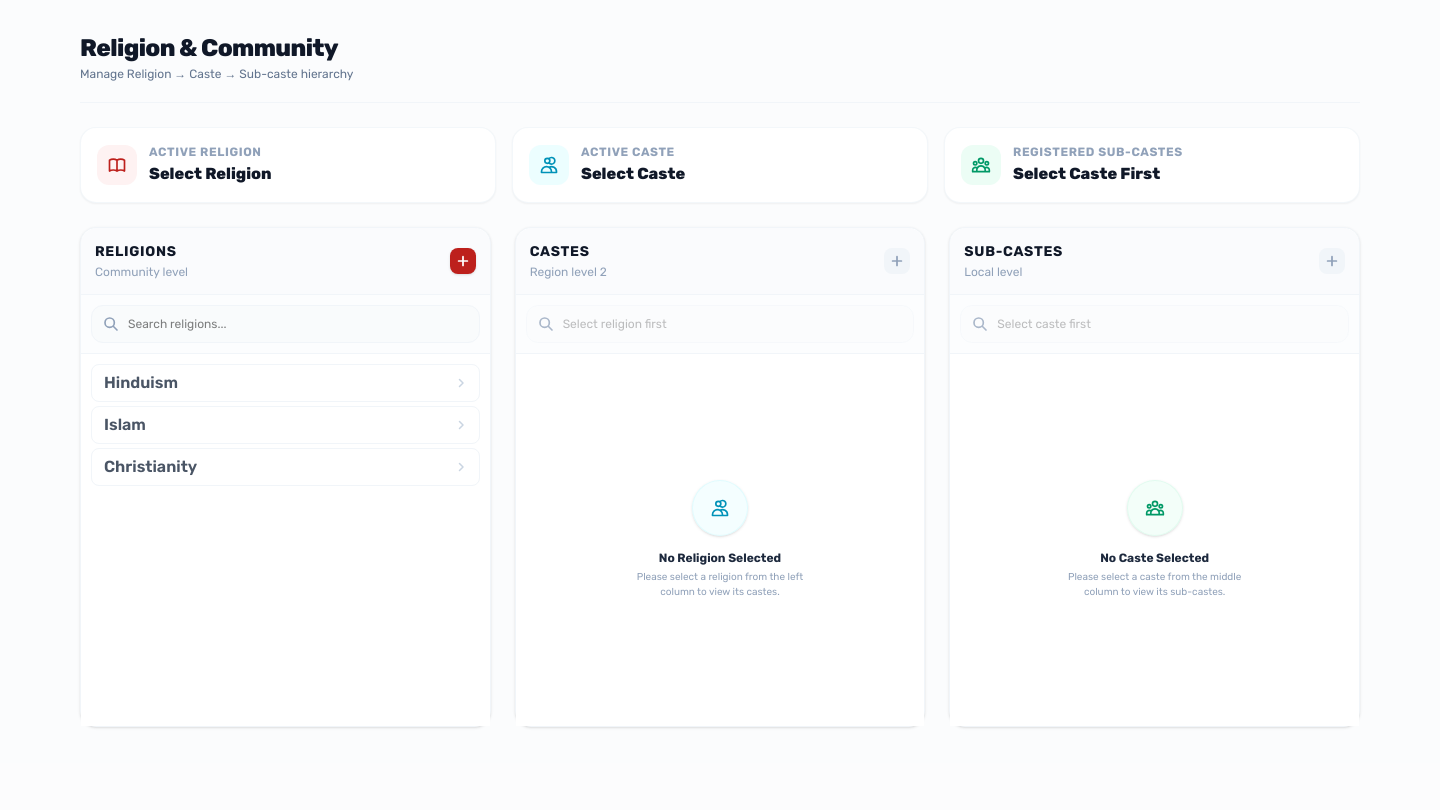
Test case: ReligionManagement Component › Modals › should close modal when Cancel is clicked
Click the button titled "Add New Religion". click: click(463, 261)
box: x1=450 y1=248 x2=476 y2=274
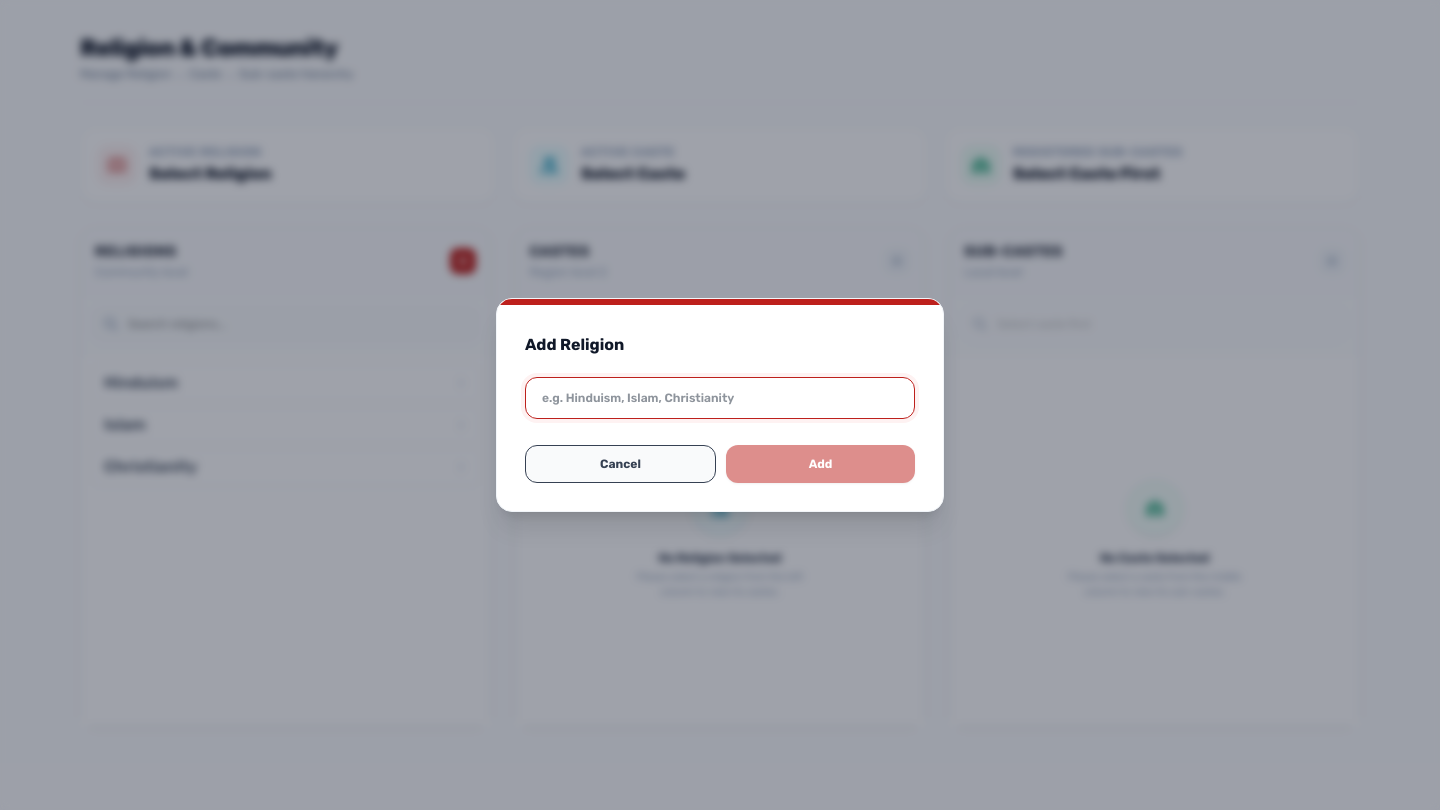
Expected: the heading "Add Religion" is shown, x1=525 y1=335 x2=624 y2=354
Click the button "Cancel". click: click(620, 464)
box: x1=525 y1=445 x2=716 y2=483
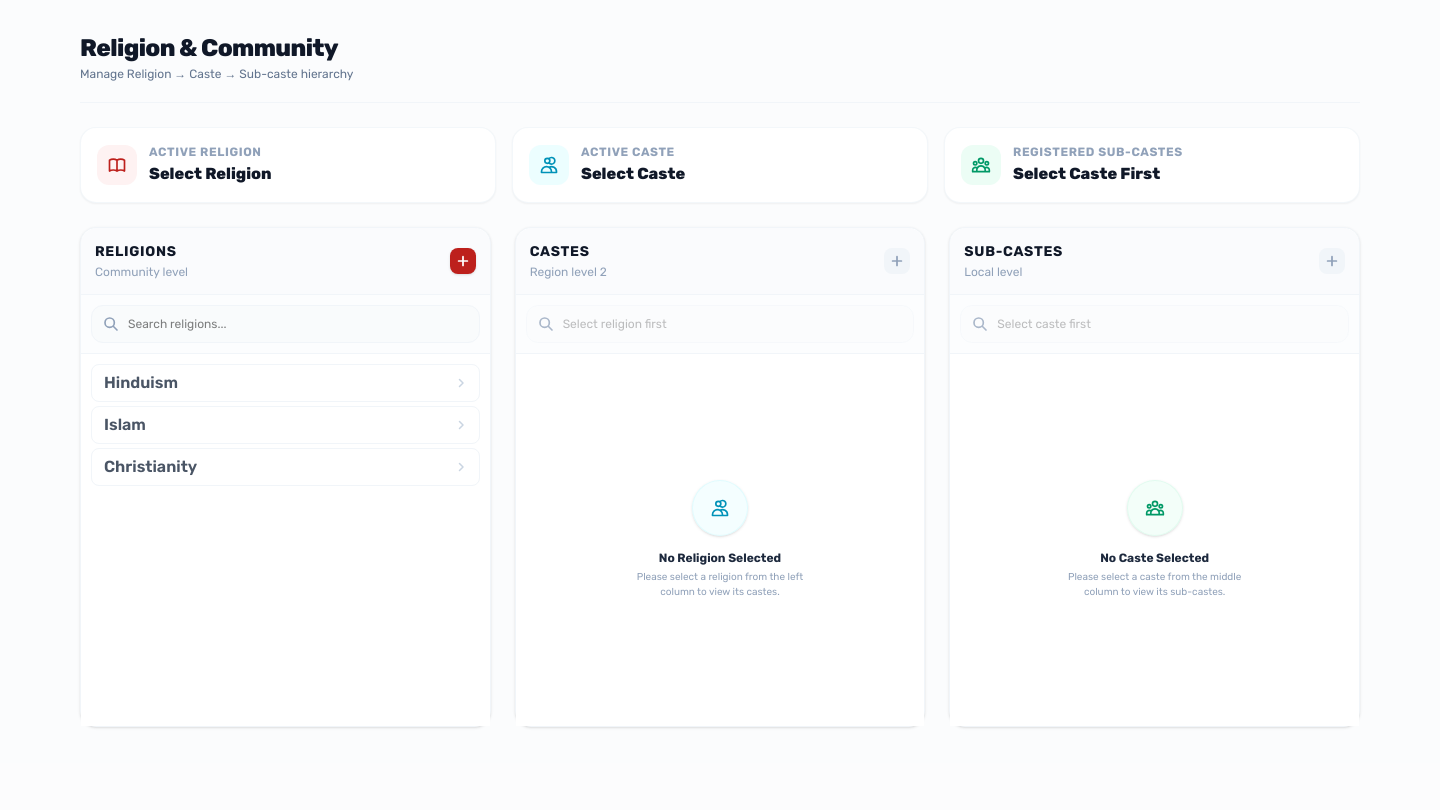
Expected: the heading "Add Religion" is gone
